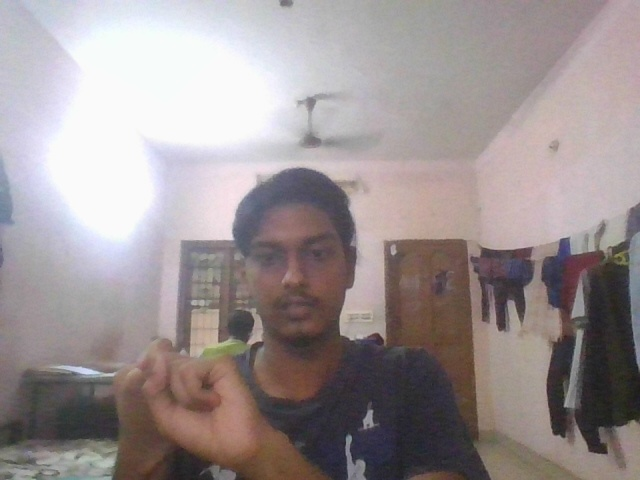friend: (102, 331, 271, 463)
